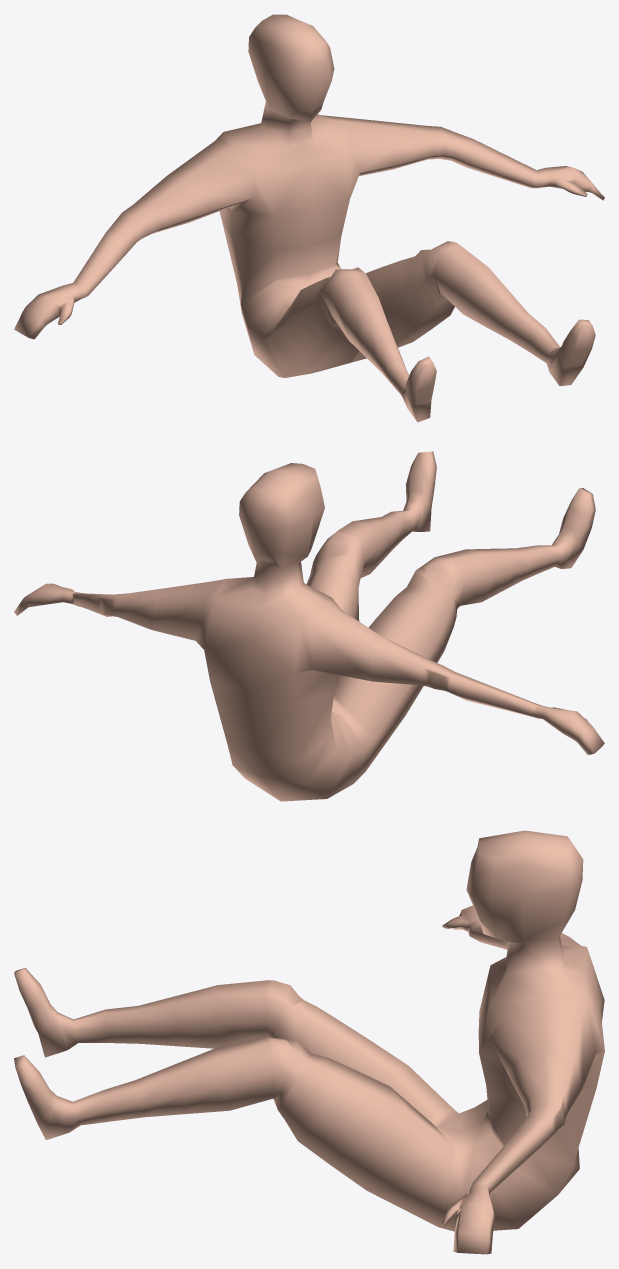
File: humanoid.glb
The picture shows the model from 3 angles, top to bottom: view 1: azimuth 30°, elevation 25°; view 2: azimuth 150°, elevation 25°; view 3: azimuth 270°, elevation 25°; orthographic projection. The views are drawn at different scales.
Visible parts, largest first — view 1: MESH.Base; view 2: MESH.Base; view 3: MESH.Base.
Boxes of the visible parts, box(x1,y1,x2,y2) form: MESH.Base: box(14, 14, 604, 422); MESH.Base: box(14, 451, 604, 801); MESH.Base: box(14, 830, 604, 1254).
Bounding box in the file's own units: 0.8279 × 0.4626 × 0.6284.
